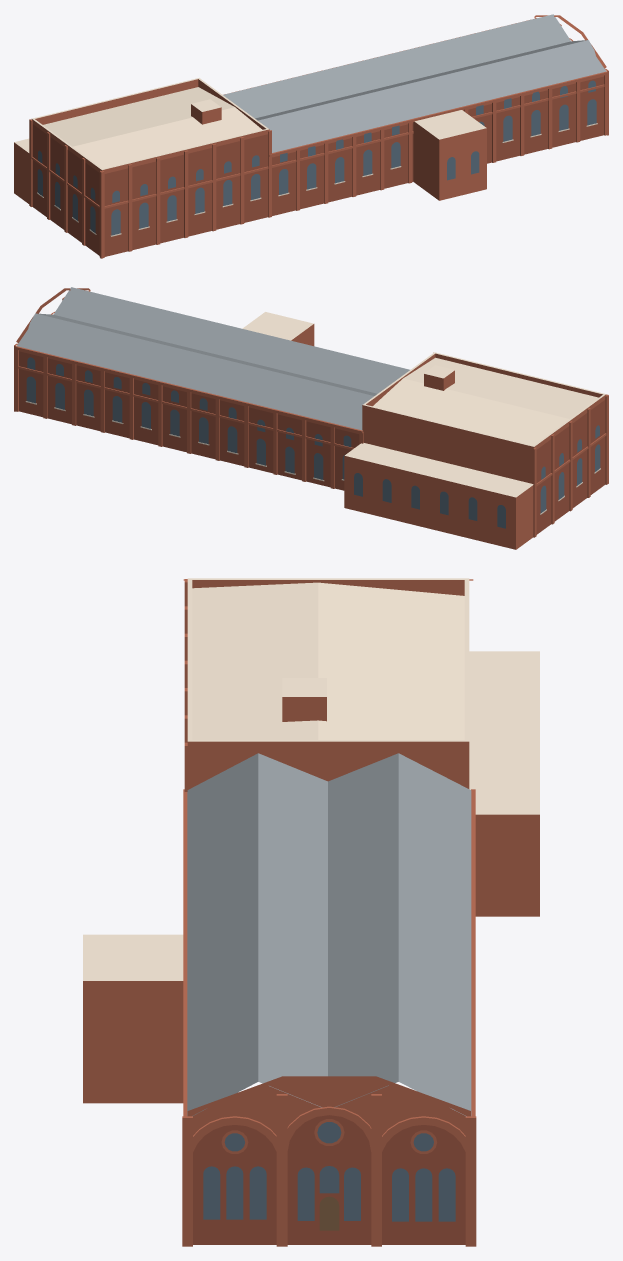
File: den-tramway-building.glb
3 renders of one model, top to bottom at view 1: azimuth 30°, elevation 25°; view 2: azimuth 150°, elevation 25°; view 3: azimuth 270°, elevation 25°, orthographic. The views are drawn at different scales.
Visible parts, largest first — view 1: Denver Tramway Company Building; view 2: Denver Tramway Company Building; view 3: Denver Tramway Company Building.
Boxes of the visible parts, bbox=[...] form: Denver Tramway Company Building: bbox=[14, 14, 608, 258]; Denver Tramway Company Building: bbox=[14, 287, 608, 549]; Denver Tramway Company Building: bbox=[83, 578, 539, 1246].
Size of the model in its own units: 131 by 24.2 by 51.22.
